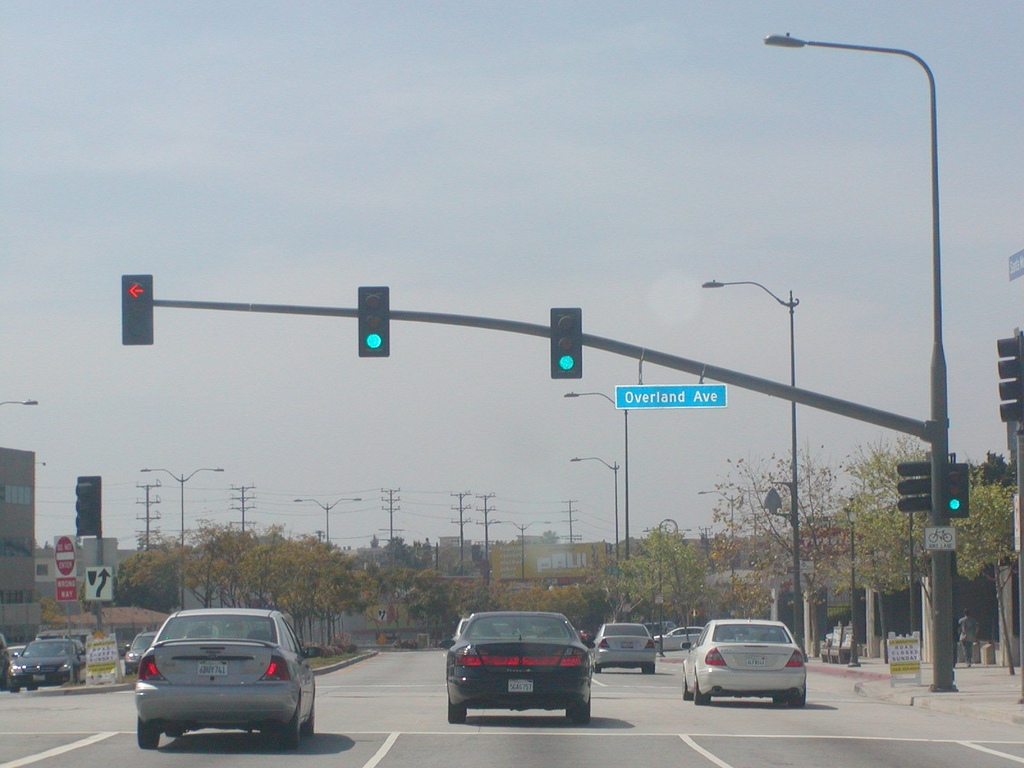traffic_light: (355, 285, 392, 359), (548, 306, 584, 381), (120, 273, 155, 347), (940, 462, 970, 519)
